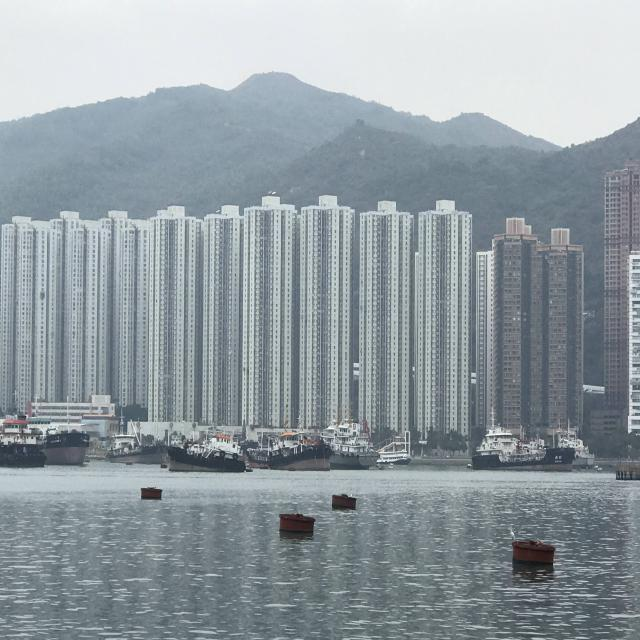ship: (462, 432, 572, 472), (162, 427, 248, 478), (0, 391, 49, 471), (38, 398, 91, 470), (104, 414, 168, 466), (320, 421, 380, 472), (269, 428, 332, 473), (550, 426, 600, 474), (376, 438, 410, 470)
